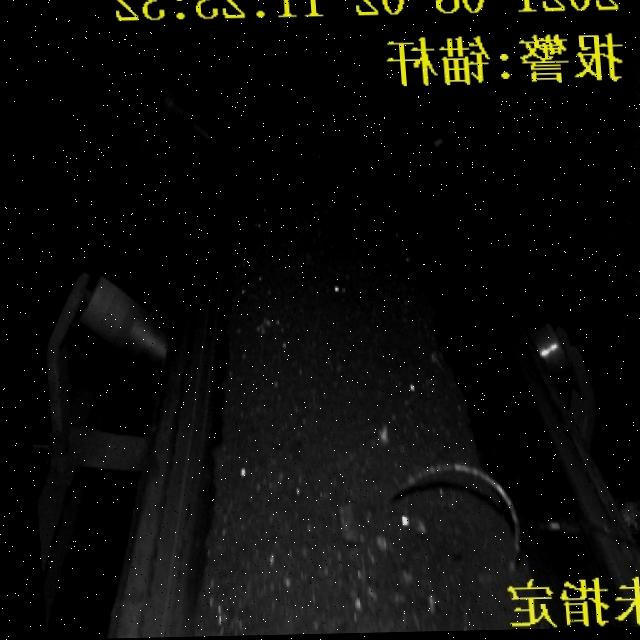bolt: (371, 461, 514, 582)
